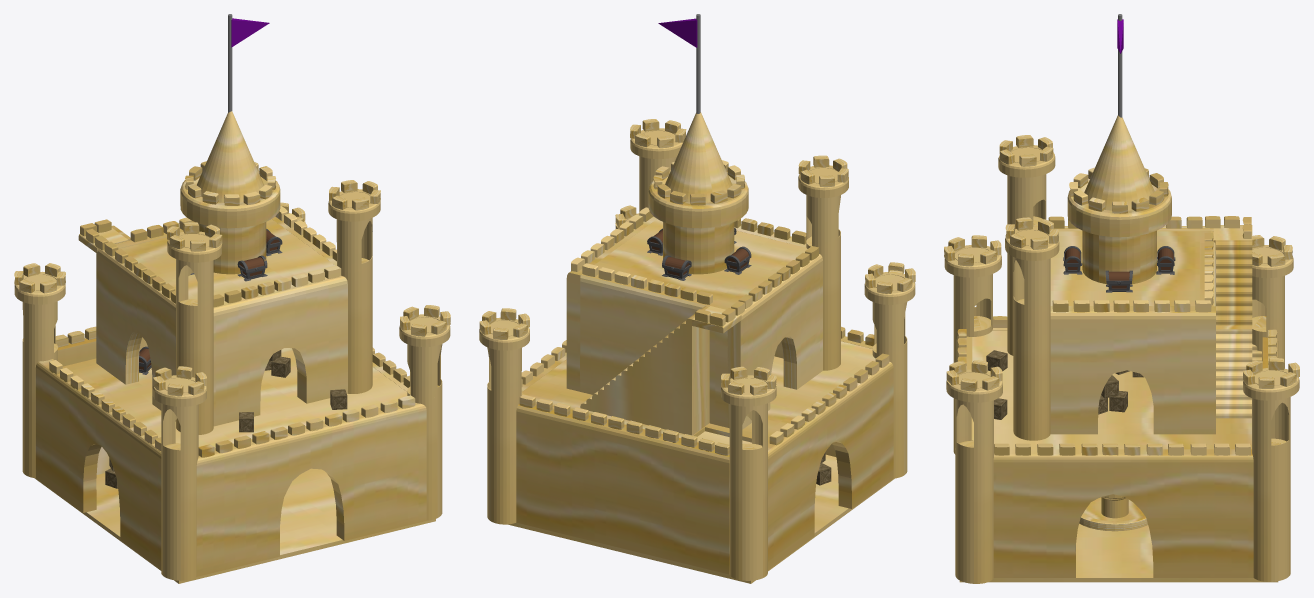
Rendered from castelodeareia2.fbx.
3 views of the same model, side by side, from view 1: azimuth 30°, elevation 25°; view 2: azimuth 150°, elevation 25°; view 3: azimuth 270°, elevation 25° (orthographic). The views are drawn at different scales.
Visible parts, largest first — view 1: Cube; view 2: Cube; view 3: Cube.
Boxes of the visible parts, left/top/right/bottom form: Cube: left=14, top=14, right=450, bottom=583; Cube: left=479, top=14, right=915, bottom=583; Cube: left=944, top=14, right=1299, bottom=583.
Size of the model in its own units: 3488 by 5508 by 3542.
Materials: 6 (6 with a texture image).
